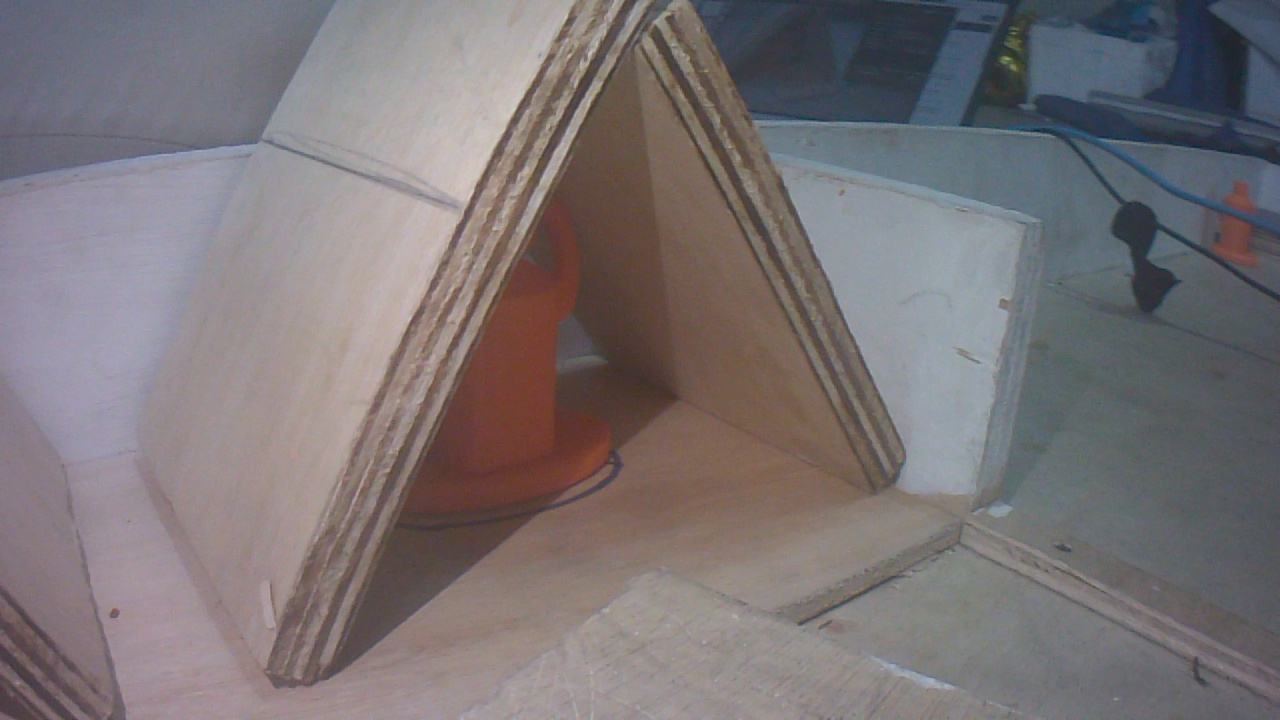real: (376, 158, 616, 532)
